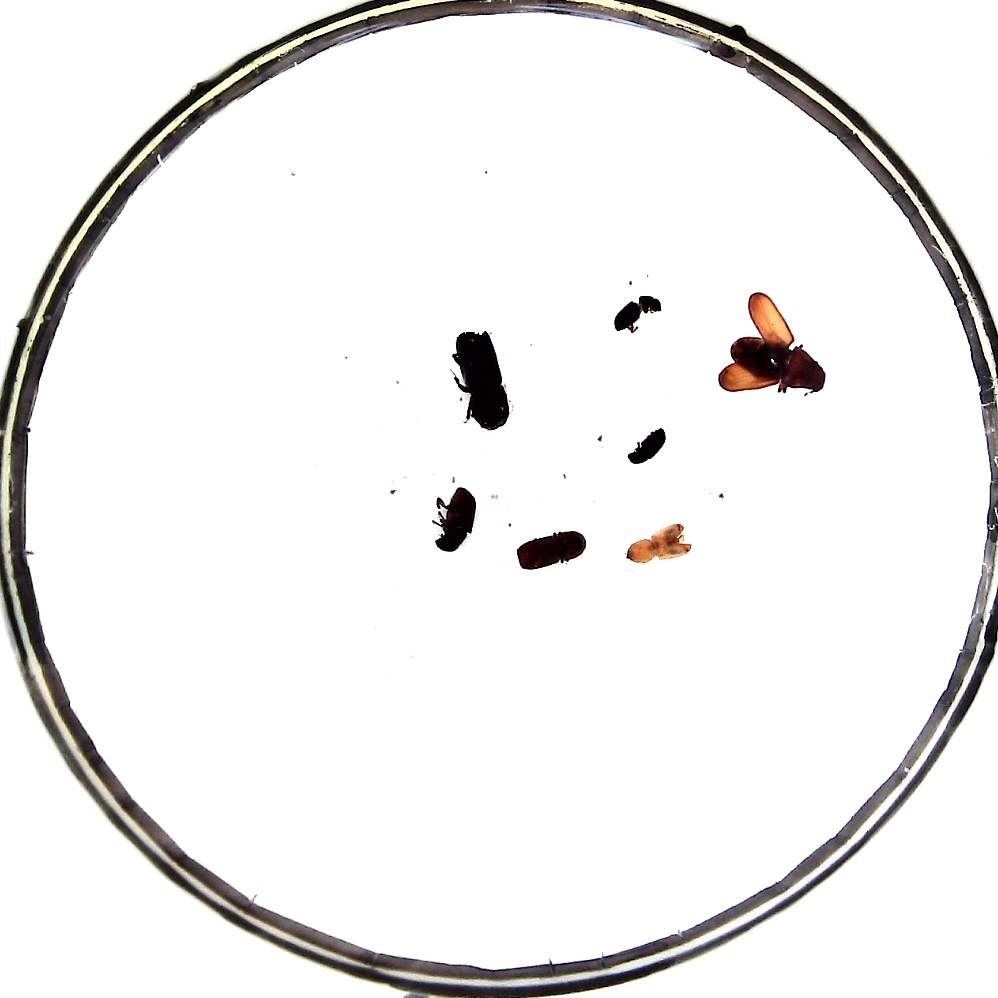Boerner: (455, 331, 509, 430)
Leconte: (731, 337, 826, 393)
acuminatus: (614, 295, 662, 330), (628, 428, 666, 464)
armandi: (435, 487, 476, 552)
coleoptera: (626, 524, 691, 563)
linnaeus: (516, 531, 586, 570)
